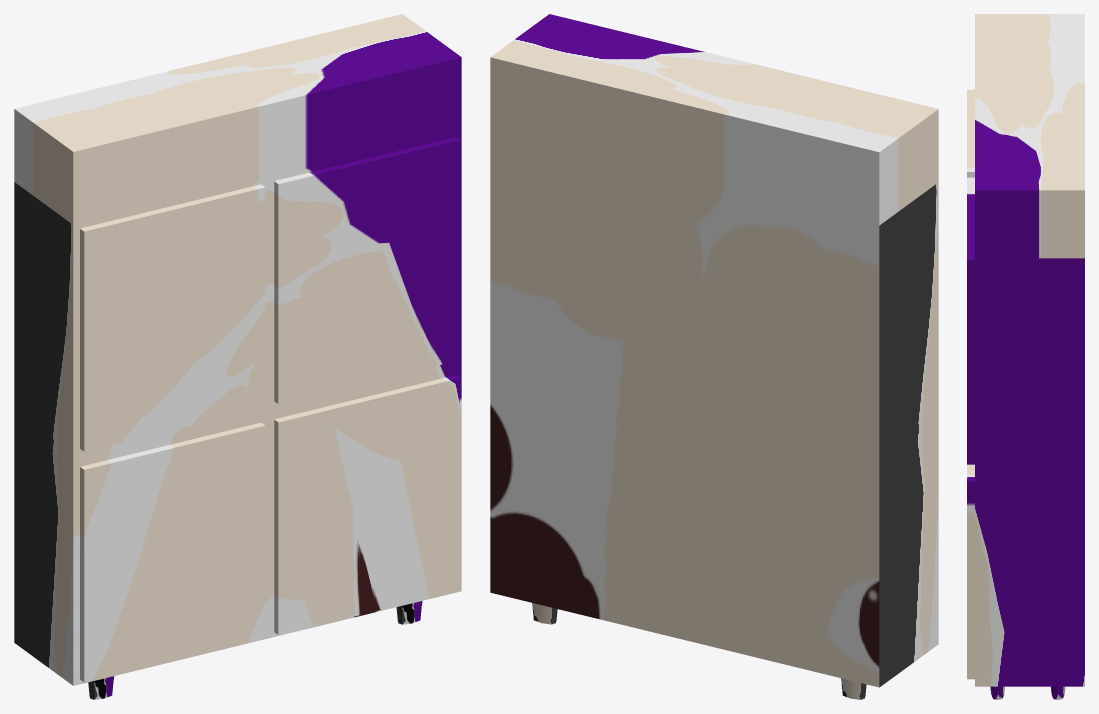
File: geladeira1.fbx
3 views of the same model, side by side, from view 1: azimuth 30°, elevation 25°; view 2: azimuth 150°, elevation 25°; view 3: azimuth 270°, elevation 25° (orthographic). The views are drawn at different scales.
Parts seen in each view (by area): view 1: geladeira1; view 2: geladeira1; view 3: geladeira1.
Part boxes in pixels (<box>): geladeira1: <box>14,14,461,699</box>; geladeira1: <box>490,14,938,699</box>; geladeira1: <box>967,14,1084,699</box>.
Bounding box in the file's own units: 21.24 × 29.41 × 6.
